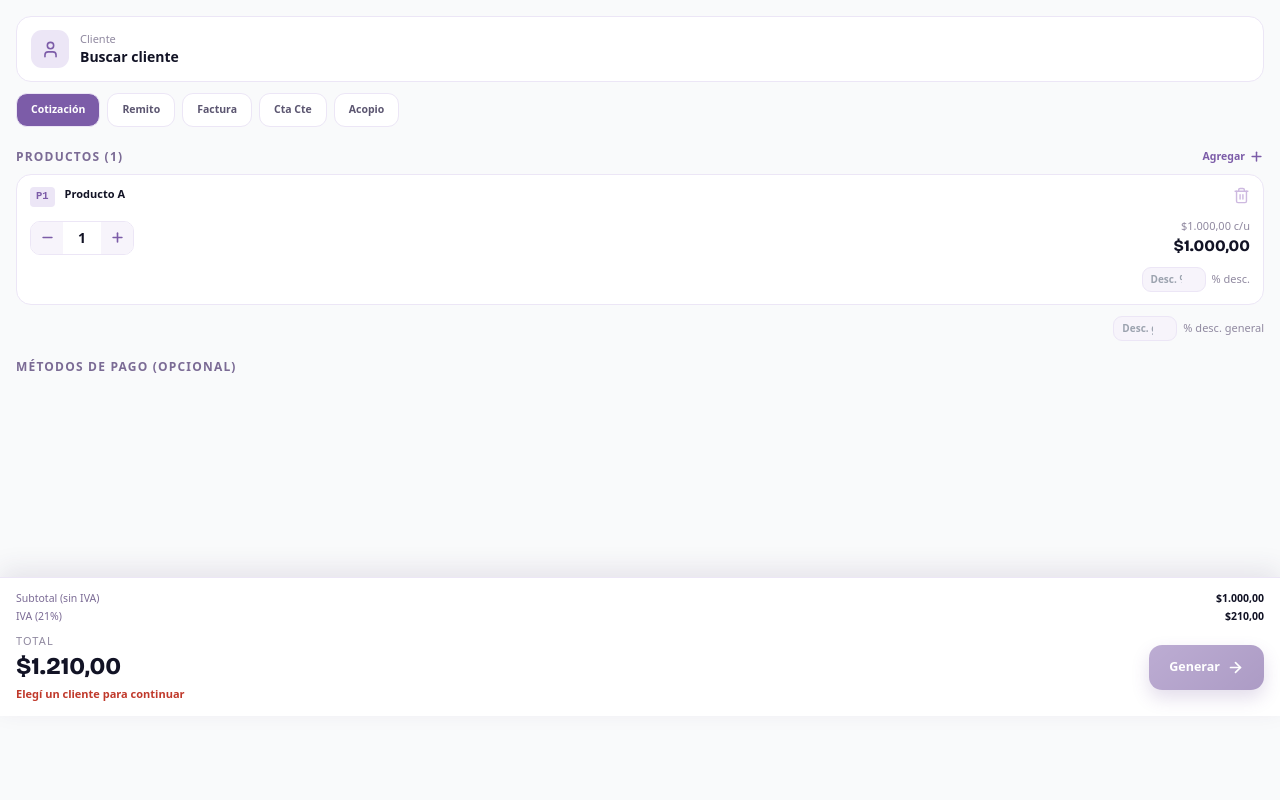
Test: MobileSales — client picker › shows the empty "Buscar cliente" prompt by default (not a fake default client) and opens the picker sheet on tap
Expected: the text "Buscar cliente" is shown, [80,47,179,66]
Step 1. Click the button "Cliente Buscar cliente" → (50, 49), box [16,16,1264,82]
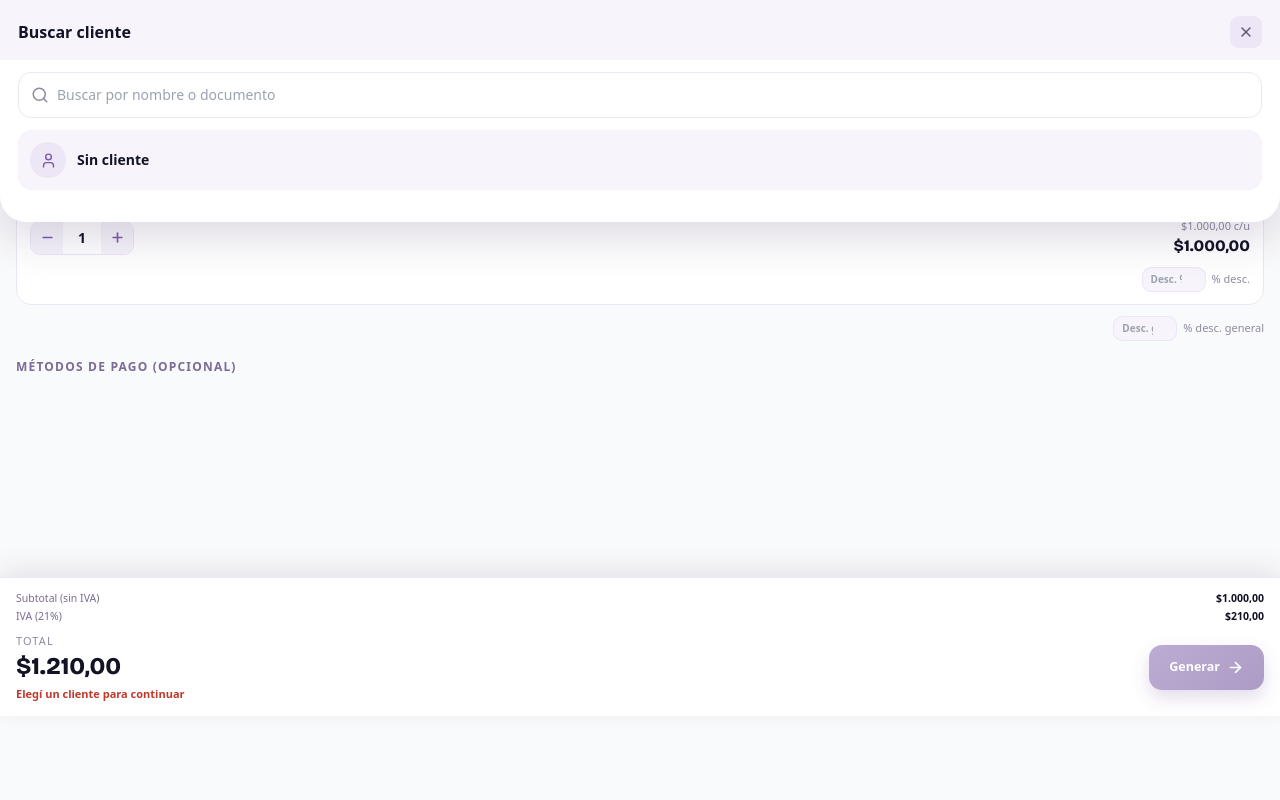
Expected: the dialog "Buscar cliente Sin cliente" is shown, [0,0,1279,222]
